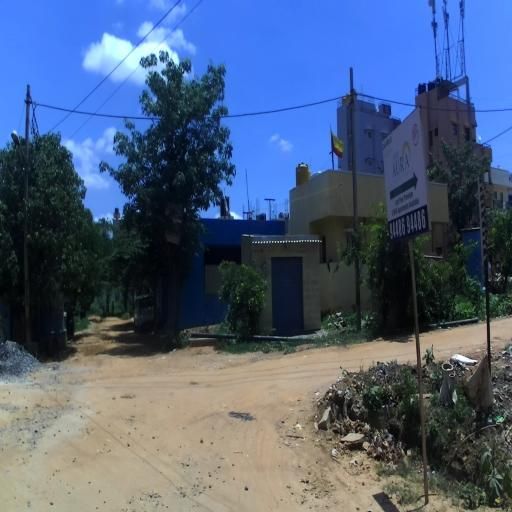street_light_0: (11, 130, 29, 179)
